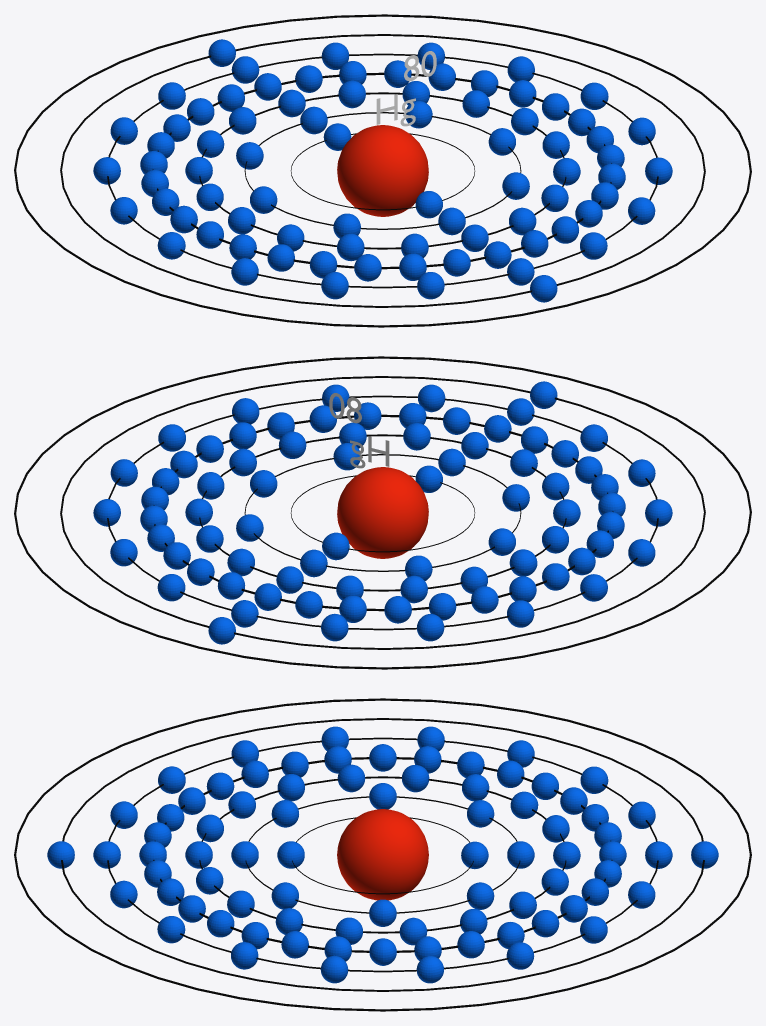
3 renders of one model, top to bottom at view 1: azimuth 30°, elevation 25°; view 2: azimuth 150°, elevation 25°; view 3: azimuth 270°, elevation 25°, orthographic.
Parts seen in each view (by area): view 1: Hg4, Hg5, Hg3, Proton, n7, Hg2, n6, n5, Hg6, Hg1, n3, n4 (+2 smaller); view 2: Hg4, Hg5, Hg3, Proton, n7, Hg2, n6, n5, Hg6, Hg1, n3, n4 (+2 smaller); view 3: Hg4, Hg3, Hg5, Proton, Hg2, n7, n6, n5, Hg1, Hg6, n3, n4 (+2 smaller).
Part boxes in pixels (box(x1,y1,x2,y2)): Hg4: box(140, 60, 625, 281); Hg5: box(93, 42, 672, 299); Hg3: box(185, 80, 580, 261); Proton: box(337, 125, 428, 216); n7: box(14, 14, 751, 327); Hg2: box(236, 101, 529, 238); n6: box(60, 34, 705, 307); n5: box(107, 53, 658, 288); Hg6: box(208, 39, 557, 302); Hg1: box(323, 123, 442, 218); n3: box(199, 92, 566, 249); n4: box(152, 72, 611, 269); Hg4: box(140, 402, 625, 623); Hg5: box(93, 384, 672, 641); Hg3: box(185, 422, 580, 603); Proton: box(337, 467, 428, 558); n7: box(14, 356, 751, 669); Hg2: box(236, 443, 529, 580); n6: box(60, 376, 705, 649); n5: box(107, 395, 658, 630); Hg6: box(208, 381, 557, 644); Hg1: box(322, 465, 442, 560); n3: box(199, 434, 566, 591); n4: box(153, 414, 613, 611); Hg4: box(139, 744, 626, 965); Hg3: box(185, 764, 580, 945); Hg5: box(93, 726, 672, 983); Proton: box(337, 809, 428, 900); Hg2: box(231, 783, 534, 926); n7: box(14, 698, 751, 1011); n6: box(61, 718, 704, 991); n5: box(107, 737, 658, 972); Hg1: box(277, 841, 488, 869); Hg6: box(47, 841, 718, 868); n3: box(199, 776, 566, 933); n4: box(153, 757, 612, 952).
Bounding box in the file's own units: 802 × 180 × 802.
